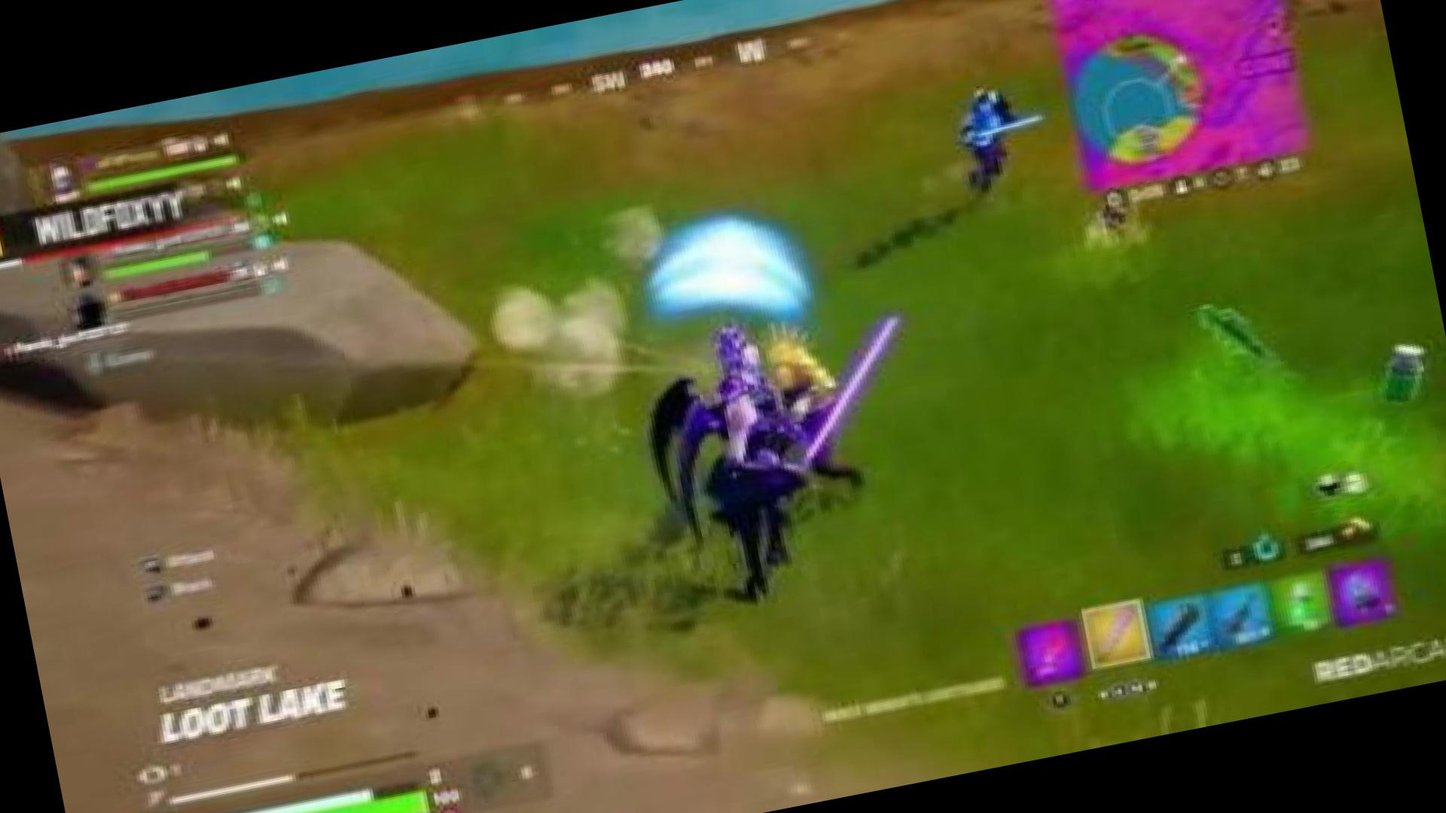player: (642, 329, 827, 586), (954, 96, 1047, 223)
